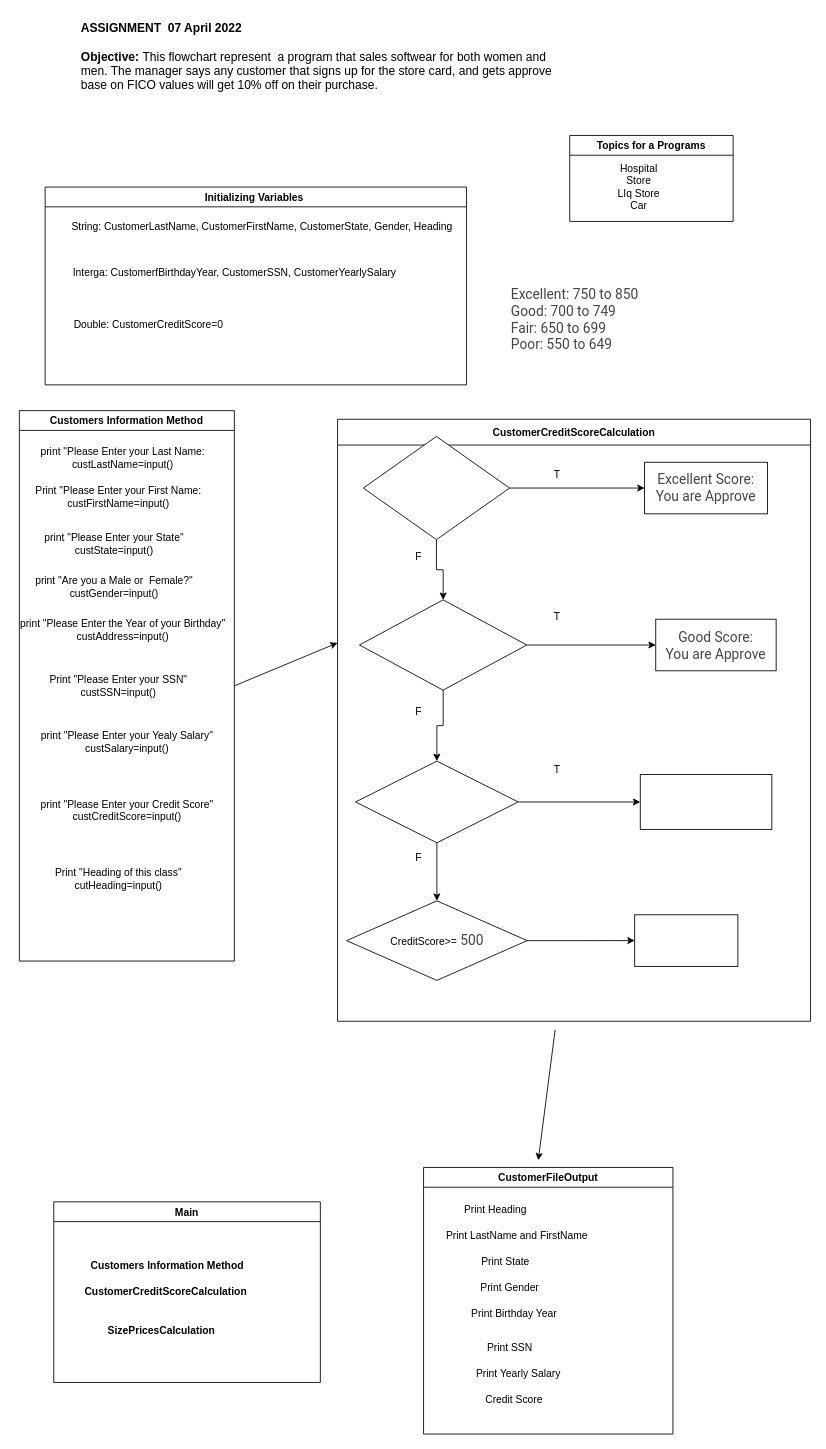
The diagram is 826 pixels wide and 1449 high, and some of its shapes have lost their labels. The centre of each missing label's shape, as x and y in pixels:
CreditScore>= 699: (x=436, y=801)
CreditScore>= 749: (x=443, y=644)
CreditScore>= 850: (x=436, y=488)
Fair Score: Pending for Review: (x=705, y=801)
NOT APPROVE: (x=686, y=940)
